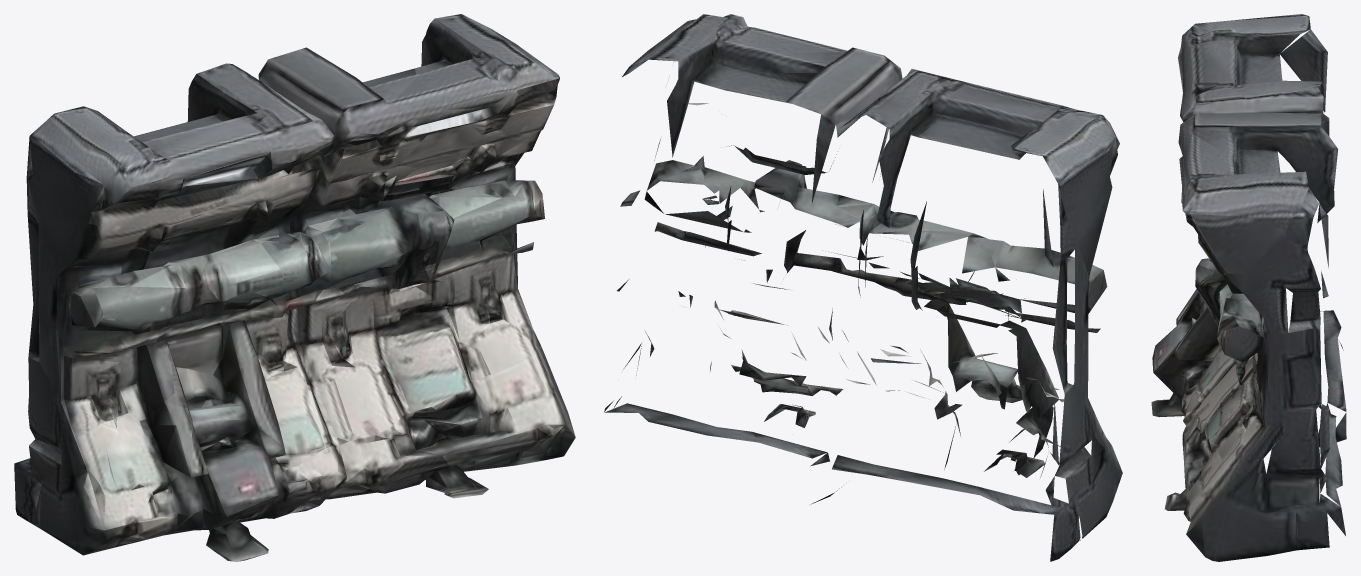
File: hangar_panel_a.glb
The picture shows the model from 3 angles, left to right: view 1: azimuth 30°, elevation 25°; view 2: azimuth 150°, elevation 25°; view 3: azimuth 270°, elevation 25°; orthographic projection. The views are drawn at different scales.
Visible parts, largest first — view 1: hangar_panel_a; view 2: hangar_panel_a; view 3: hangar_panel_a.
Boxes of the visible parts, x1,y1,x2,y2 form: hangar_panel_a: (14, 14, 575, 561); hangar_panel_a: (604, 14, 1122, 561); hangar_panel_a: (1151, 14, 1346, 561).
Bounding box in the file's own units: 0.3553 × 0.2948 × 0.1442.
1 material, 1 textured.
